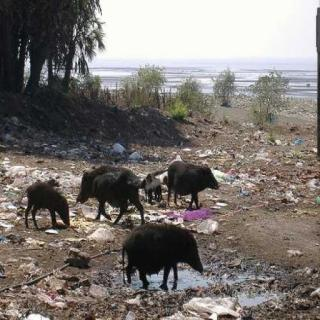Pig: (121, 223, 205, 294), (72, 163, 149, 232), (159, 157, 231, 214), (17, 171, 77, 236)
